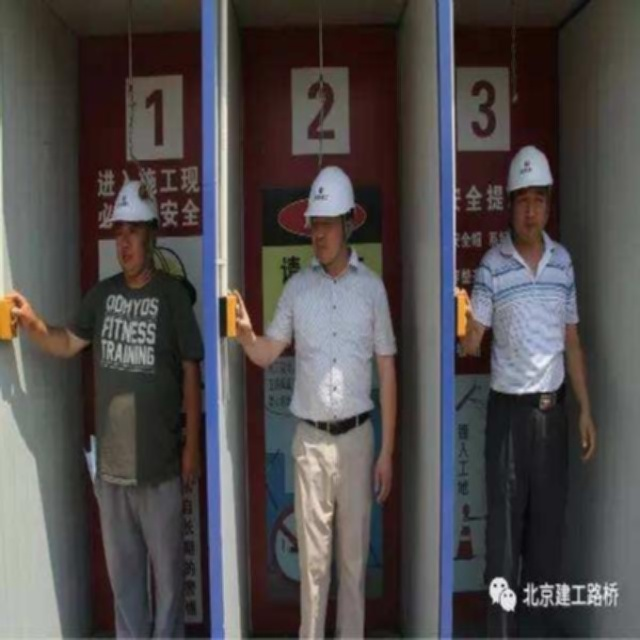Con_Casco: (508, 145, 555, 230), (308, 168, 355, 252), (110, 181, 159, 259)
Sin_Chaleco: (85, 275, 194, 473), (282, 264, 390, 427), (479, 237, 577, 402)
